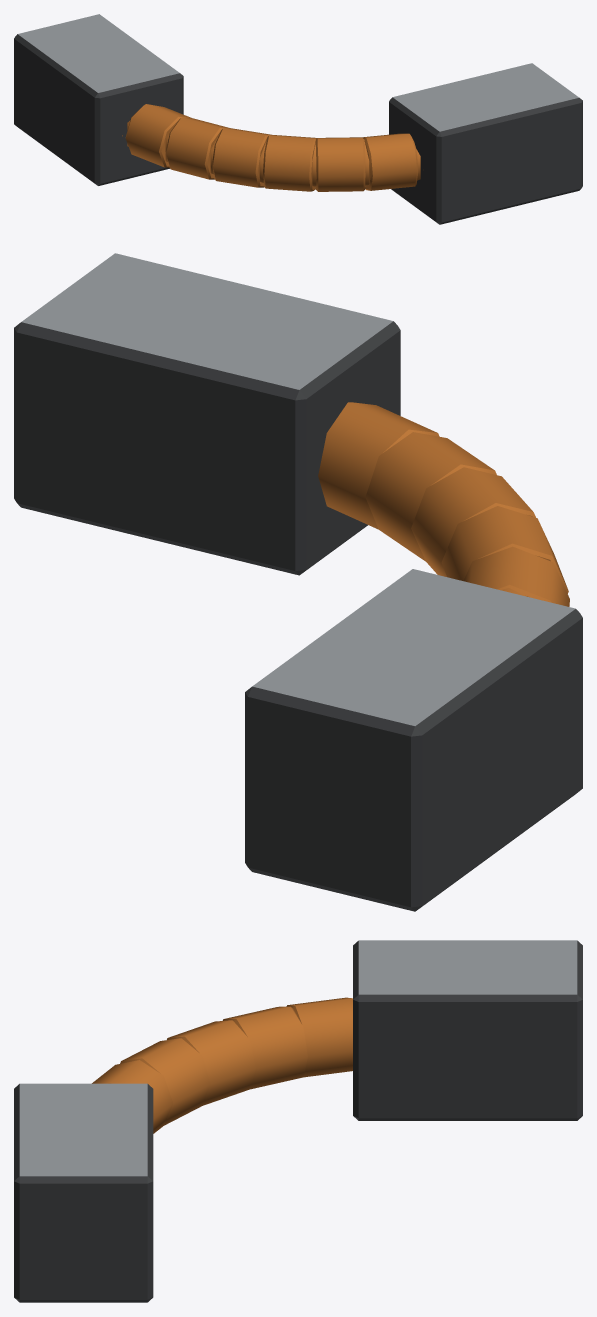
Rendered from R4C_ROD_ARC_SHORT_LOD1.fbx.
The picture shows the model from 3 angles, top to bottom: view 1: azimuth 30°, elevation 25°; view 2: azimuth 150°, elevation 25°; view 3: azimuth 270°, elevation 25°; orthographic projection. The views are drawn at different scales.
Parts seen in each view (by area): view 1: R4C_ROD_ARC_SHORT_LOD1; view 2: R4C_ROD_ARC_SHORT_LOD1; view 3: R4C_ROD_ARC_SHORT_LOD1.
Boxes of the visible parts, x1,y1,x2,y2 form: R4C_ROD_ARC_SHORT_LOD1: [14, 14, 582, 224]; R4C_ROD_ARC_SHORT_LOD1: [14, 253, 582, 911]; R4C_ROD_ARC_SHORT_LOD1: [14, 940, 582, 1302].
Bounding box in the file's own units: 0.923 × 0.226 × 0.923.
